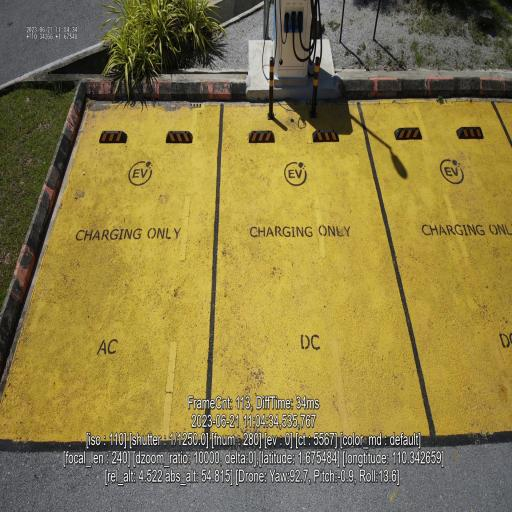Empty: (198, 89, 442, 456)
